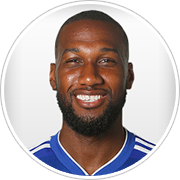face: (46, 37, 138, 125)
